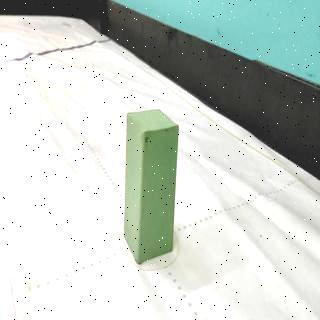greenbox: (122, 107, 180, 266)
